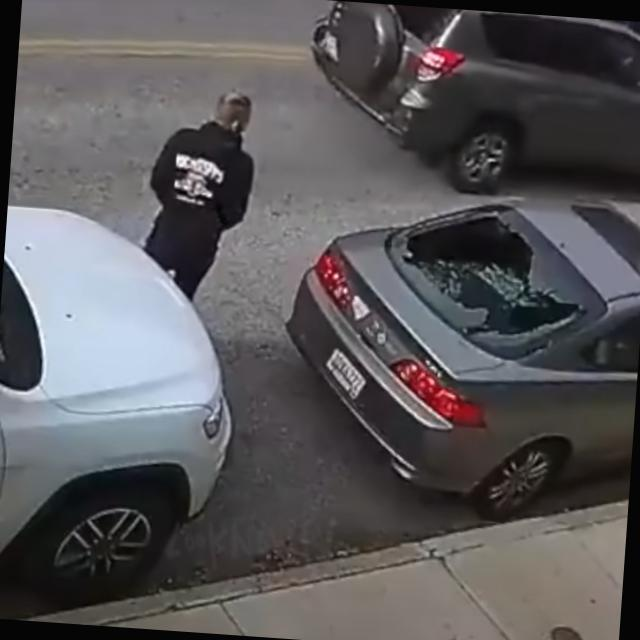person: (136, 85, 260, 306)
